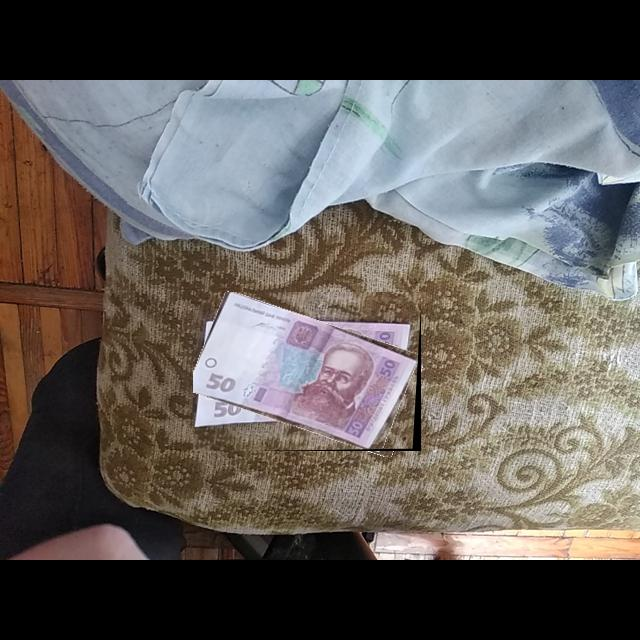50uah: (193, 292, 420, 450)
